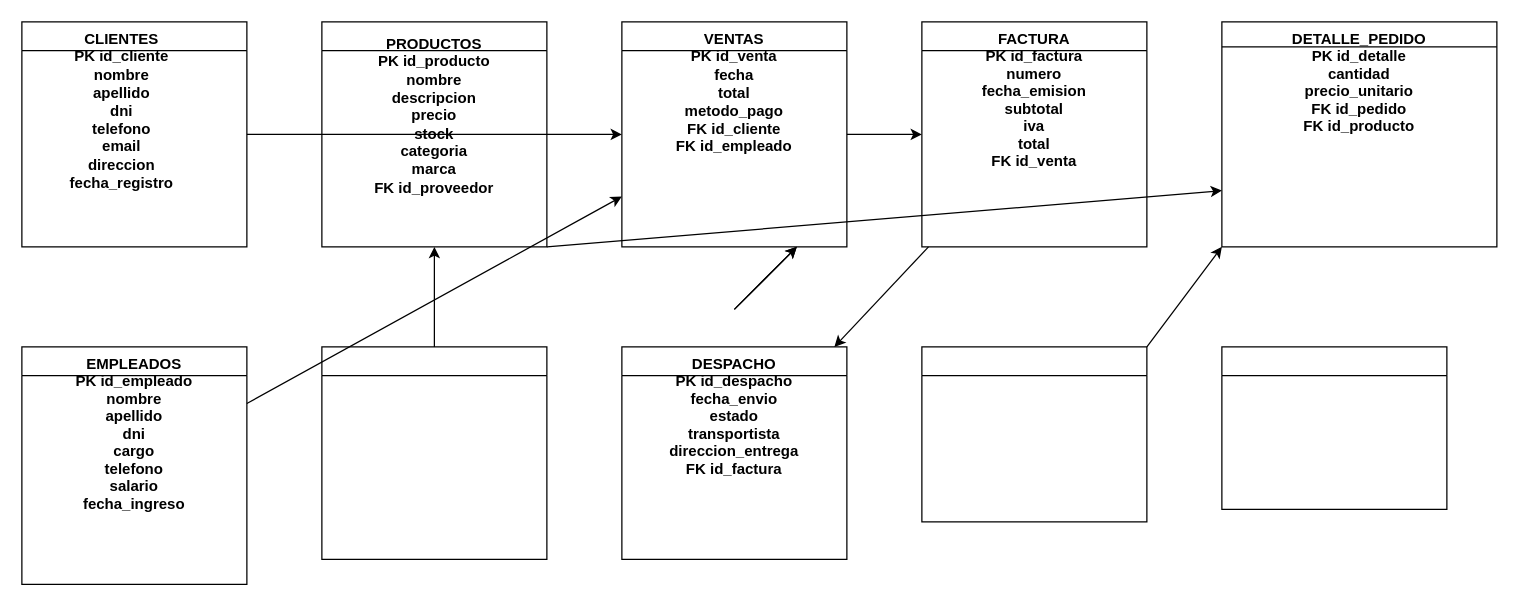
This 1519x606 diagram has some shape labels left out. The box of each missing label's shape, as (x1, y1, x2, y2) in pixels:
CATEGORIAS PK id_categoria nombre descripcion: (1221, 346, 1447, 509)
PEDIDOS PK id_pedido fecha_pedido estado FK id_cliente: (921, 346, 1147, 522)
PROVEEDORES PK id_proveedor empresa contacto telefono email direccion cuit: (321, 346, 547, 559)
